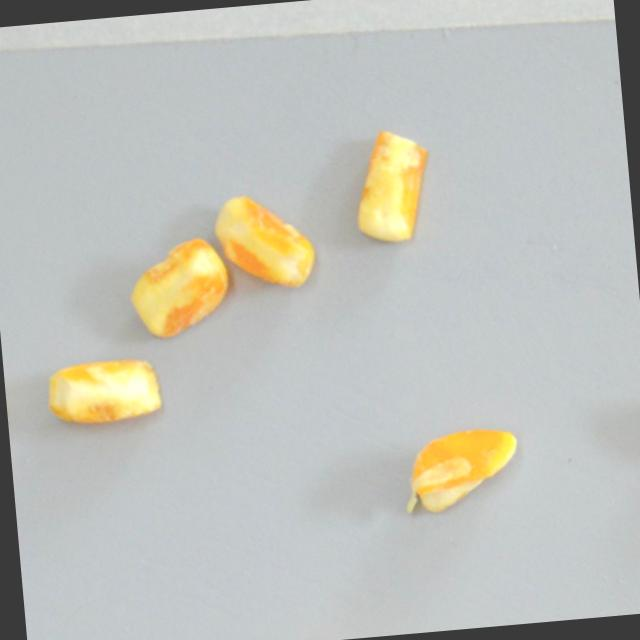estandar: (348, 127, 435, 247)
pelicula: (120, 233, 232, 341), (209, 188, 319, 294), (402, 423, 525, 516), (41, 355, 165, 430)
